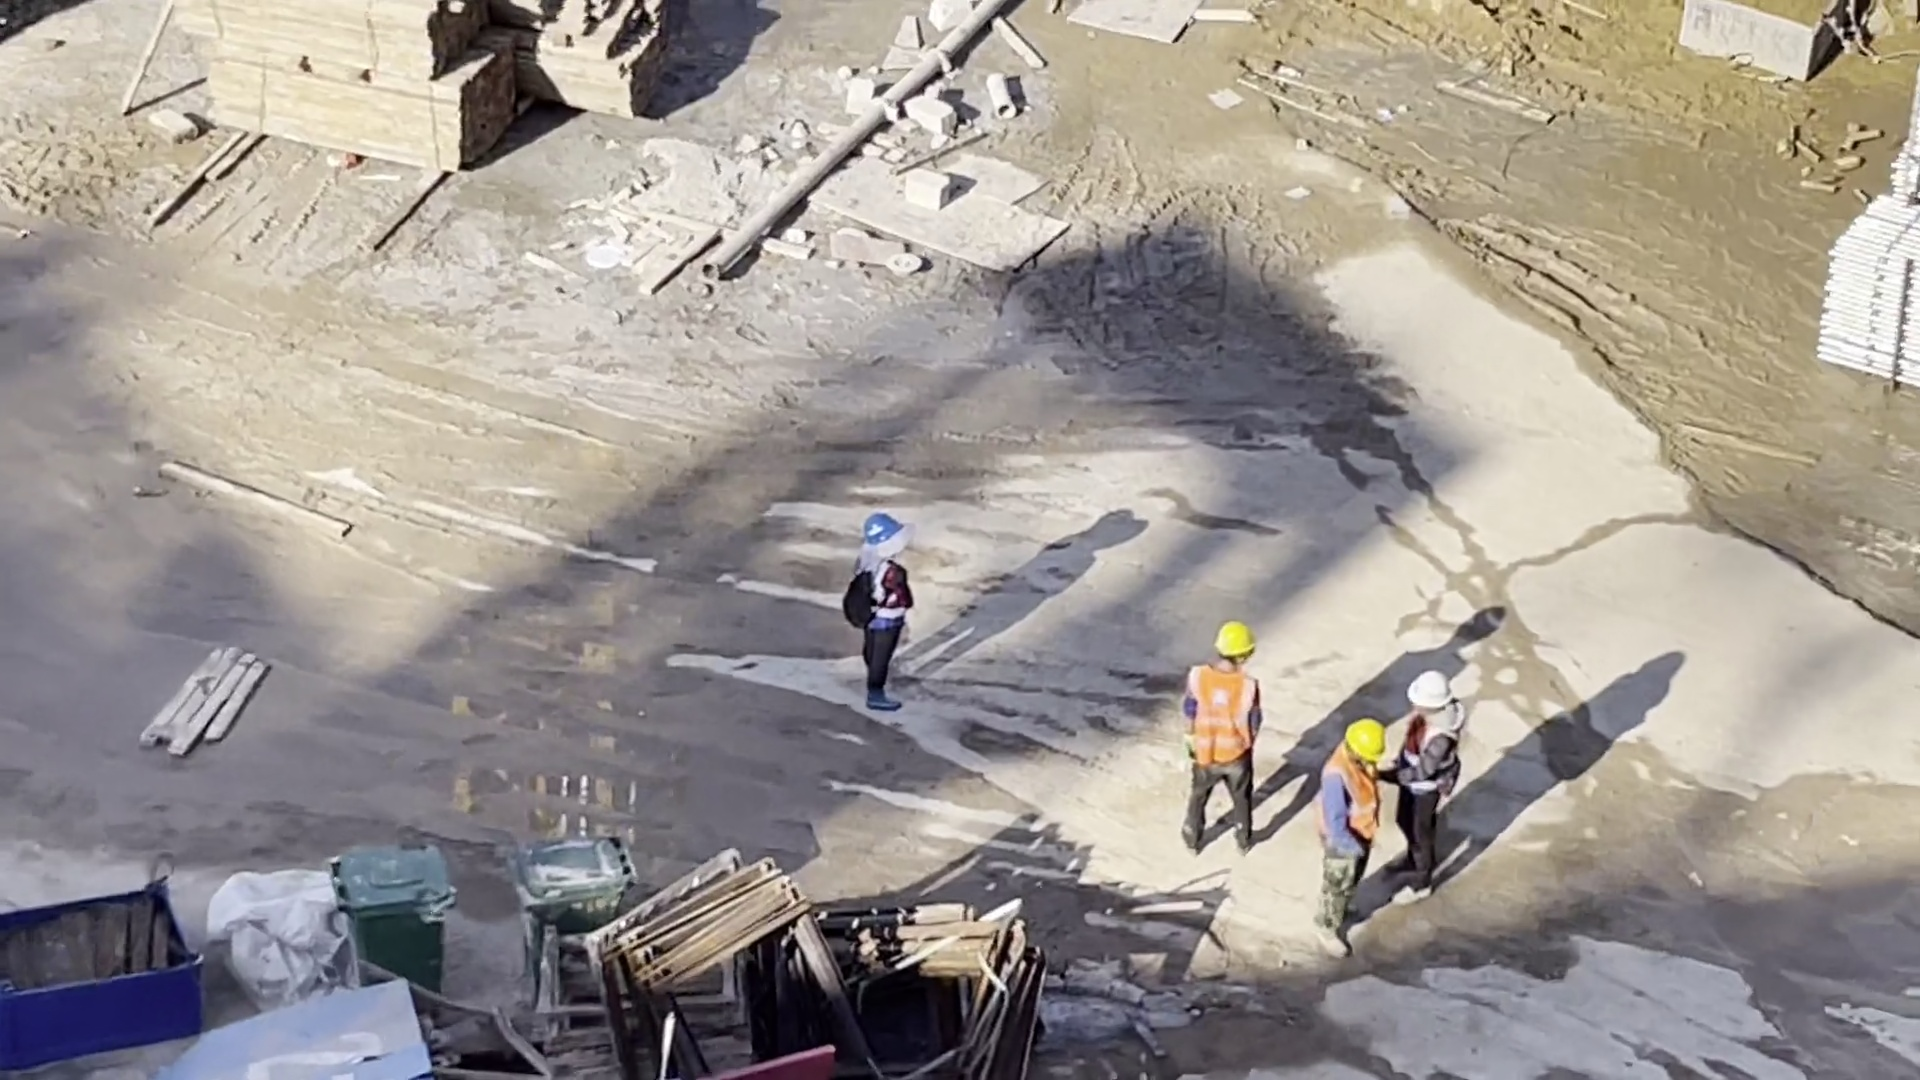helmet: (1406, 669, 1454, 711), (1215, 622, 1255, 656), (1350, 721, 1382, 763), (863, 514, 902, 545)
hopper: (4, 893, 201, 1068), (1693, 1, 1854, 87)
person: (1181, 622, 1261, 849), (1389, 666, 1456, 904), (1317, 718, 1383, 951), (856, 512, 915, 710)
scaffold: (1817, 196, 1920, 396)
vest: (1186, 672, 1252, 761), (1324, 750, 1382, 846), (867, 562, 913, 630)
wood: (191, 1, 524, 168)
